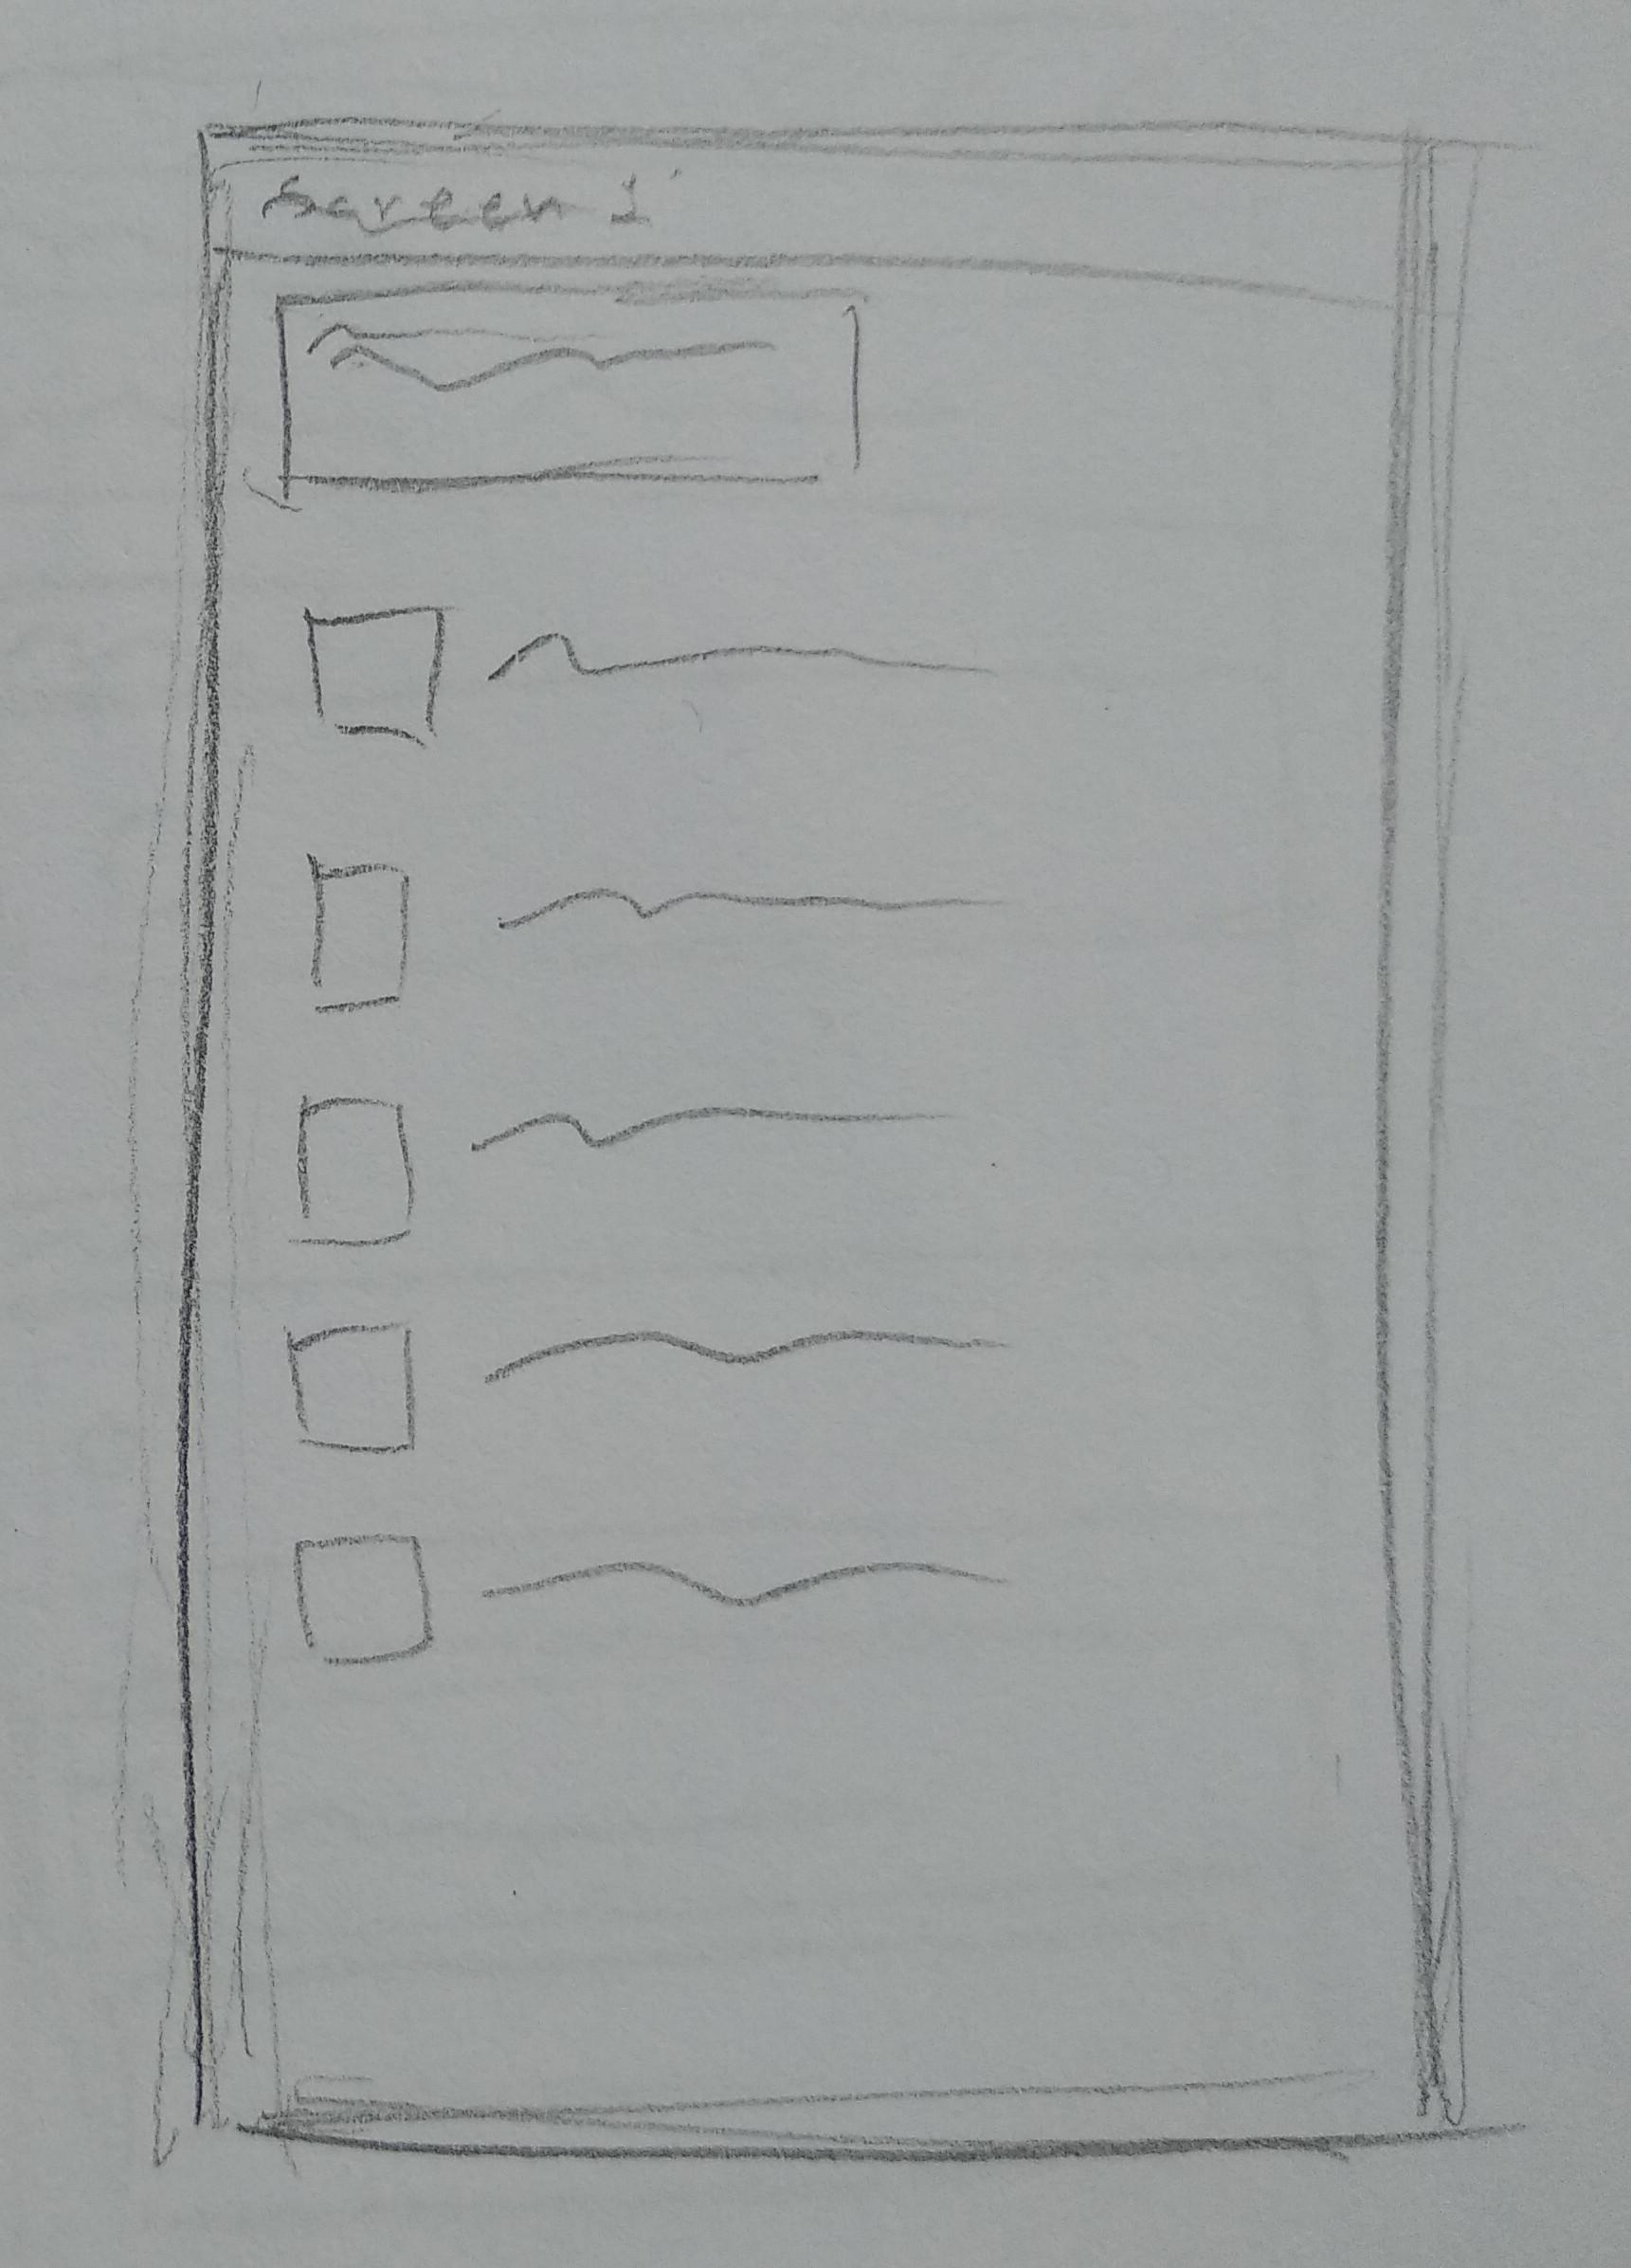CheckBox: (308, 856, 1013, 1013), (285, 1312, 1013, 1458), (292, 1093, 956, 1250), (296, 1527, 1000, 1668), (305, 602, 999, 745)
Label: (259, 166, 655, 231)
Screen: (194, 109, 1471, 2154)
TextBox: (277, 292, 865, 488)
